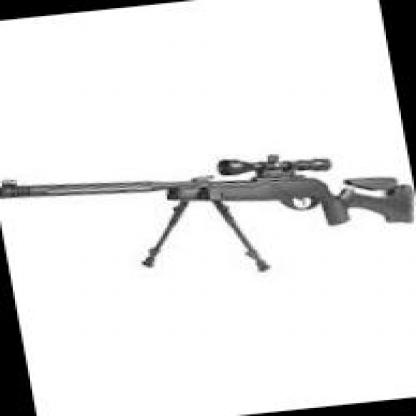rifle: (0, 122, 416, 267)
